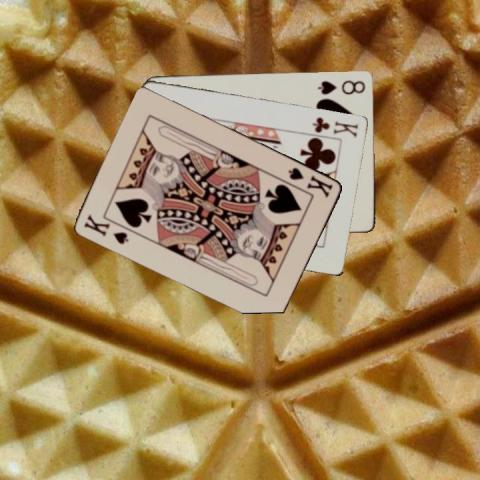8s: (314, 77, 366, 95)
Kc: (310, 114, 360, 139)
Ks: (285, 164, 335, 199), (81, 211, 131, 246)
